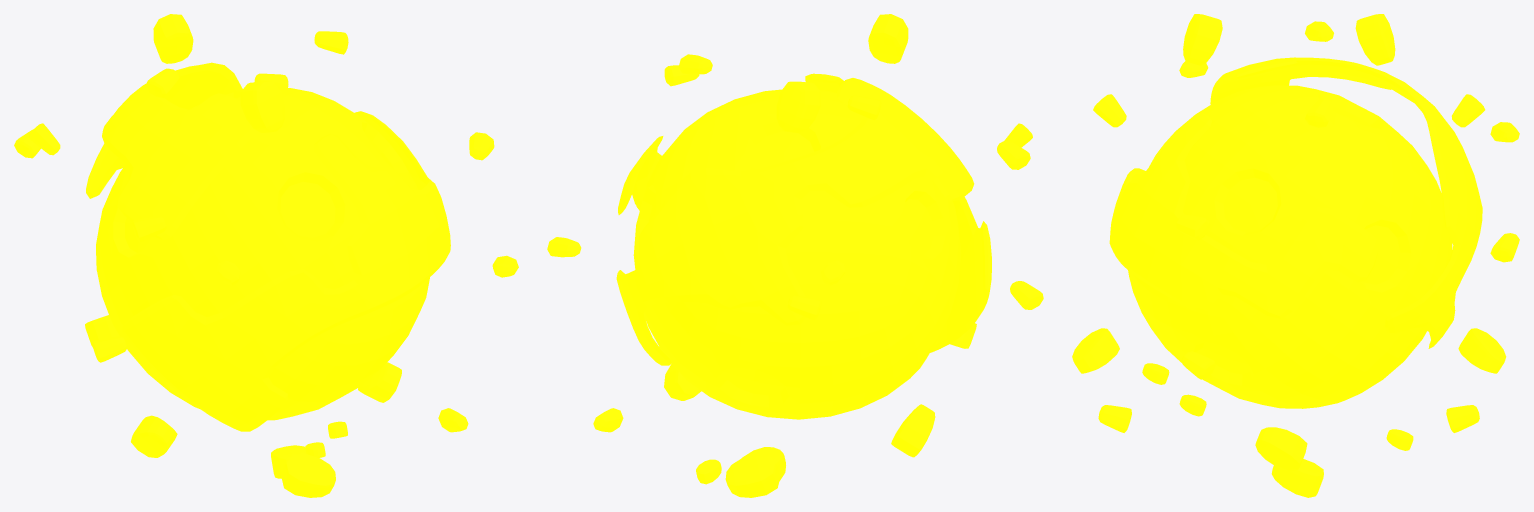
File: planet_14.glb
The picture shows the model from 3 angles, left to right: view 1: azimuth 30°, elevation 25°; view 2: azimuth 150°, elevation 25°; view 3: azimuth 270°, elevation 25°; orthographic projection. The views are drawn at different scales.
Parts seen in each view (by area): view 1: Cube.050; view 2: Cube.050; view 3: Cube.050.
Boxes of the visible parts, x1,y1,x2,y2 form: Cube.050: (14,14,518,497); Cube.050: (547,14,1043,497); Cube.050: (1072,14,1519,497).
Size of the model in its own units: 2.81 by 2.95 by 2.71.
1 material, 1 textured.
